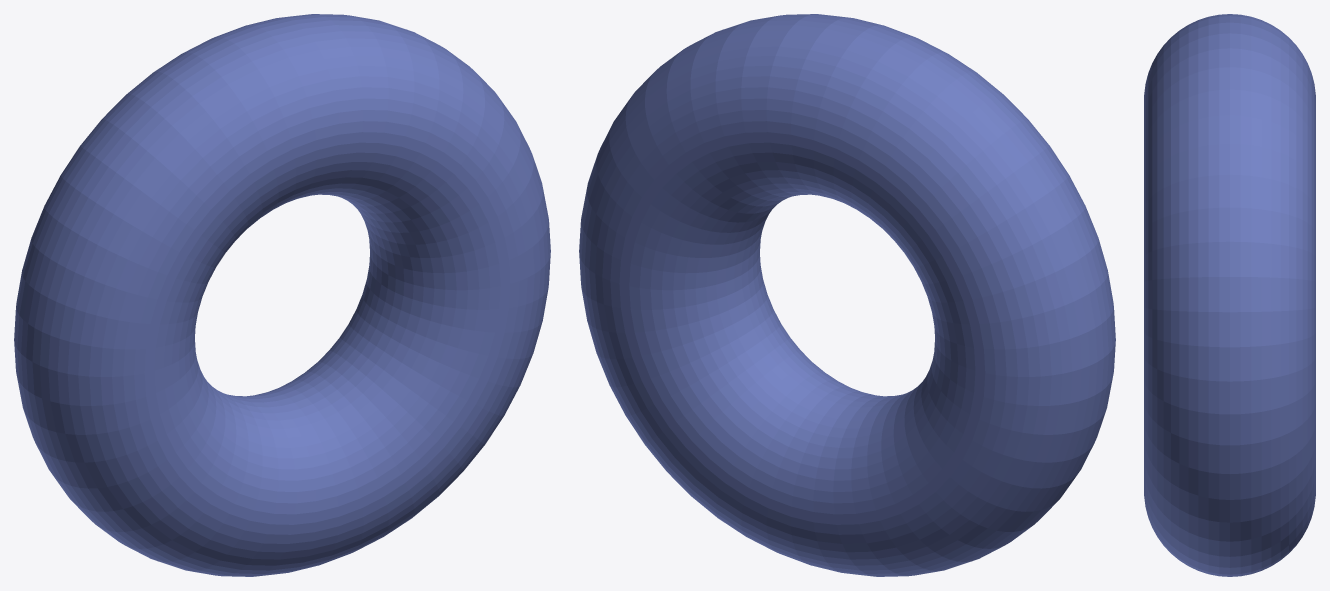
3 renders of one model, left to right at view 1: azimuth 30°, elevation 25°; view 2: azimuth 150°, elevation 25°; view 3: azimuth 270°, elevation 25°, orthographic. The views are drawn at different scales.
Parts seen in each view (by area): view 1: world; view 2: world; view 3: world.
Part boxes in pixels (<box>): world: <box>14,14,550,576</box>; world: <box>579,14,1115,576</box>; world: <box>1144,14,1315,576</box>.
Size of the model in its own units: 14.4 by 14.37 by 4.39.
